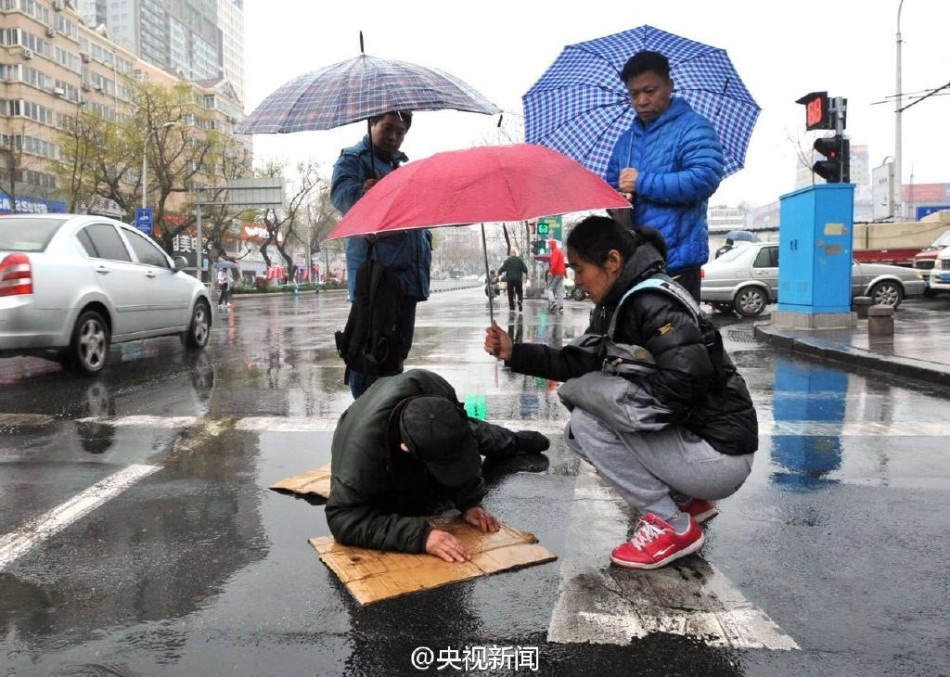falling: (309, 360, 560, 574)
